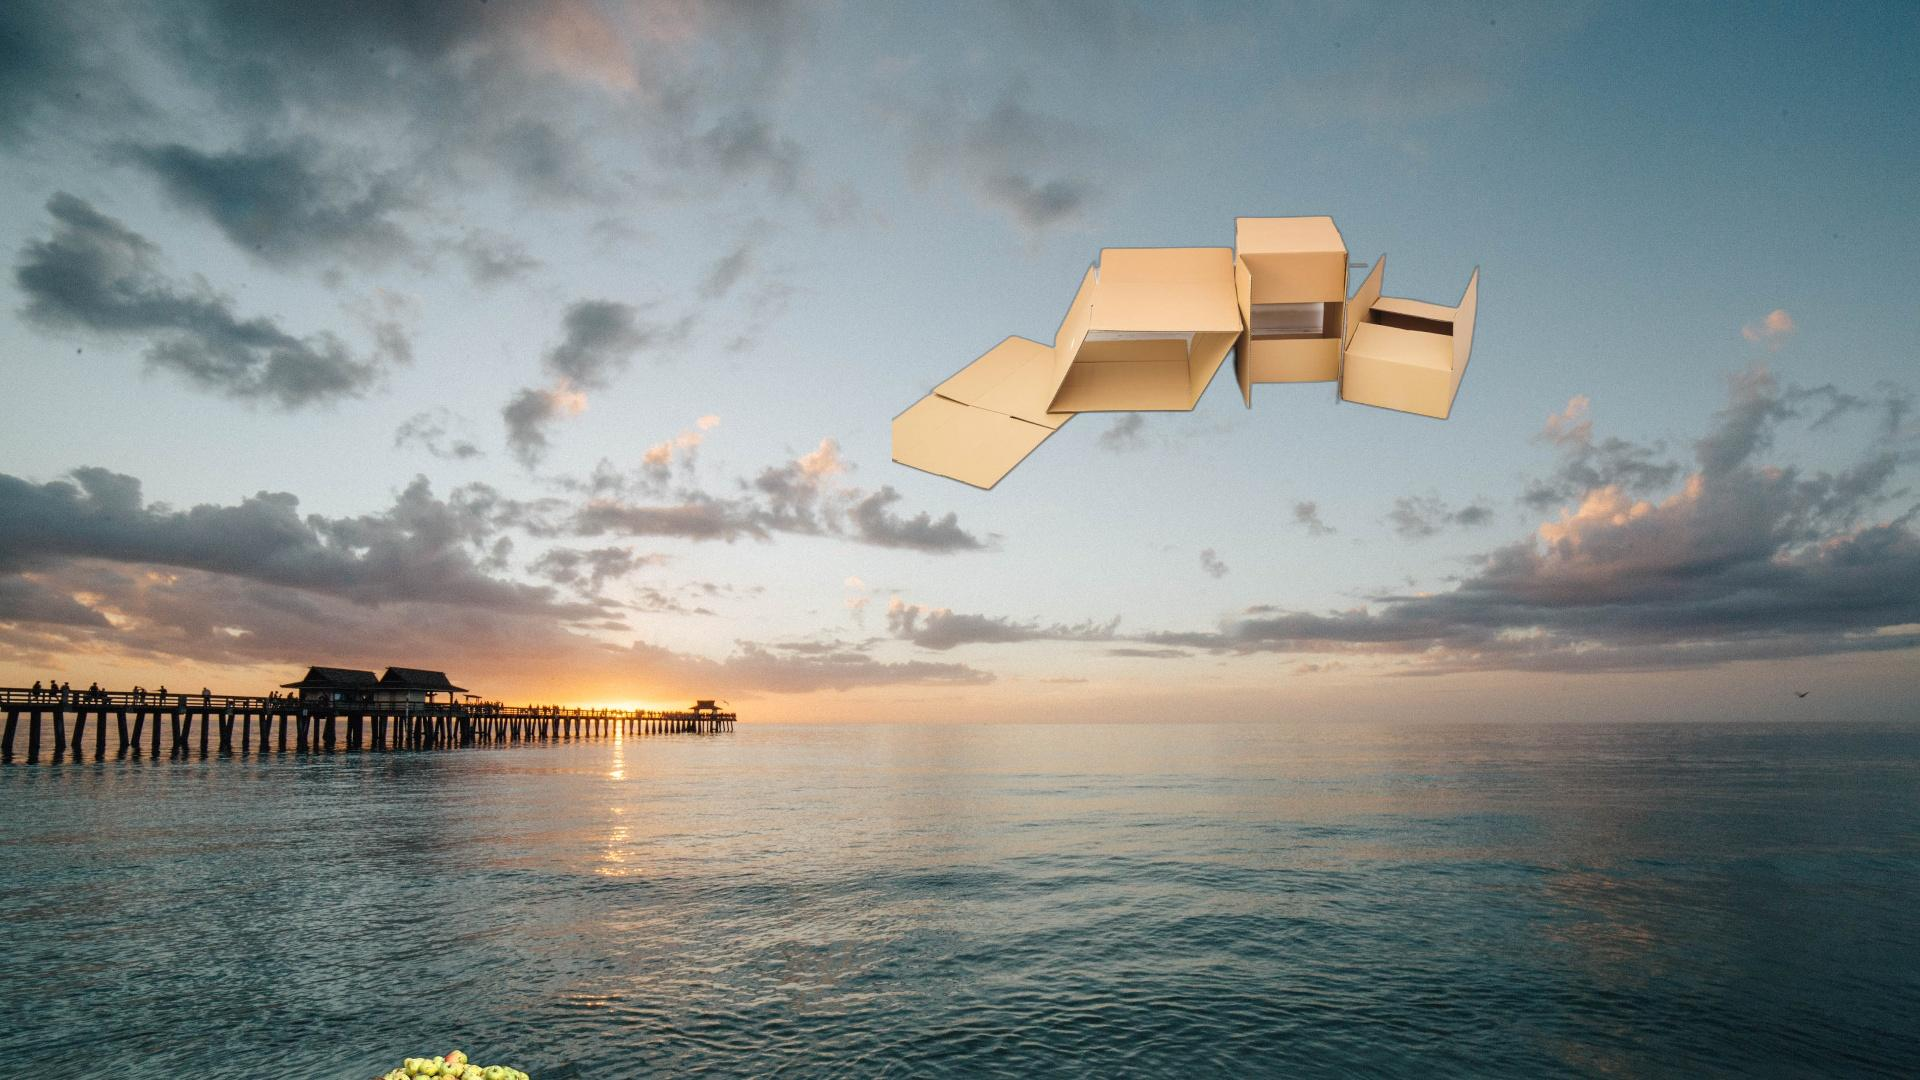biological: (287, 1048, 567, 1080)
trashbox-cardboard: (891, 212, 1485, 495)
